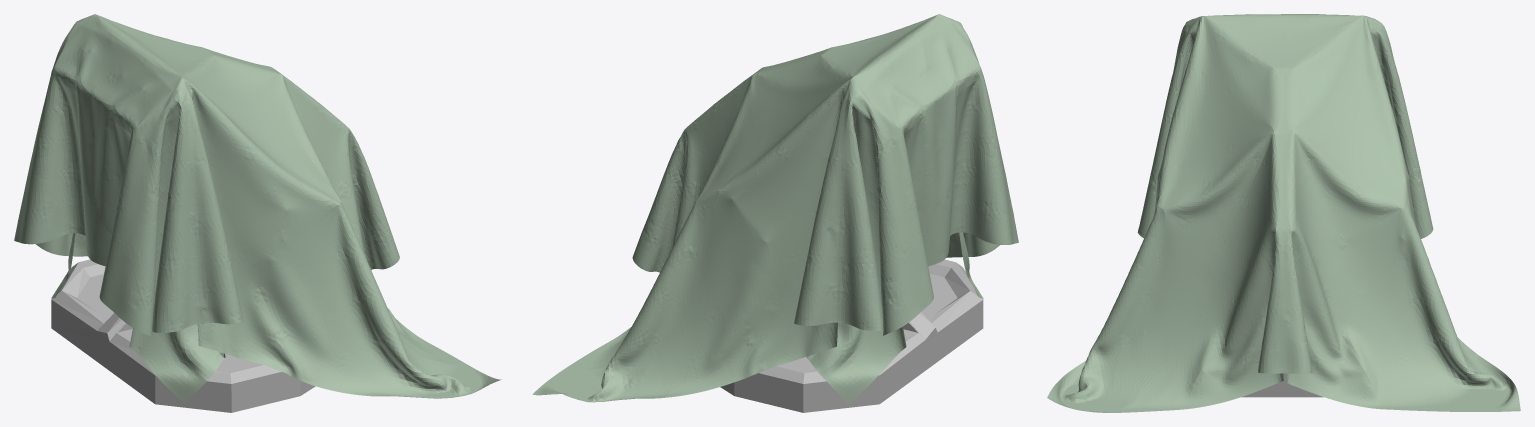
Rendered from level_4.glb.
The picture shows the model from 3 angles, left to right: view 1: azimuth 30°, elevation 25°; view 2: azimuth 150°, elevation 25°; view 3: azimuth 270°, elevation 25°; orthographic projection. The views are drawn at different scales.
Visible parts, largest first — view 1: world, object.obj; view 2: world, object.obj; view 3: world, object.obj.
Boxes of the visible parts, bbox=[...] form: world: bbox=[14, 14, 501, 403]; object.obj: bbox=[51, 259, 315, 412]; world: bbox=[532, 14, 1018, 403]; object.obj: bbox=[720, 259, 983, 412]; world: bbox=[1047, 14, 1520, 412]; object.obj: bbox=[1241, 373, 1323, 397].
Size of the model in its own units: 0.3318 by 0.3014 by 0.4479.
